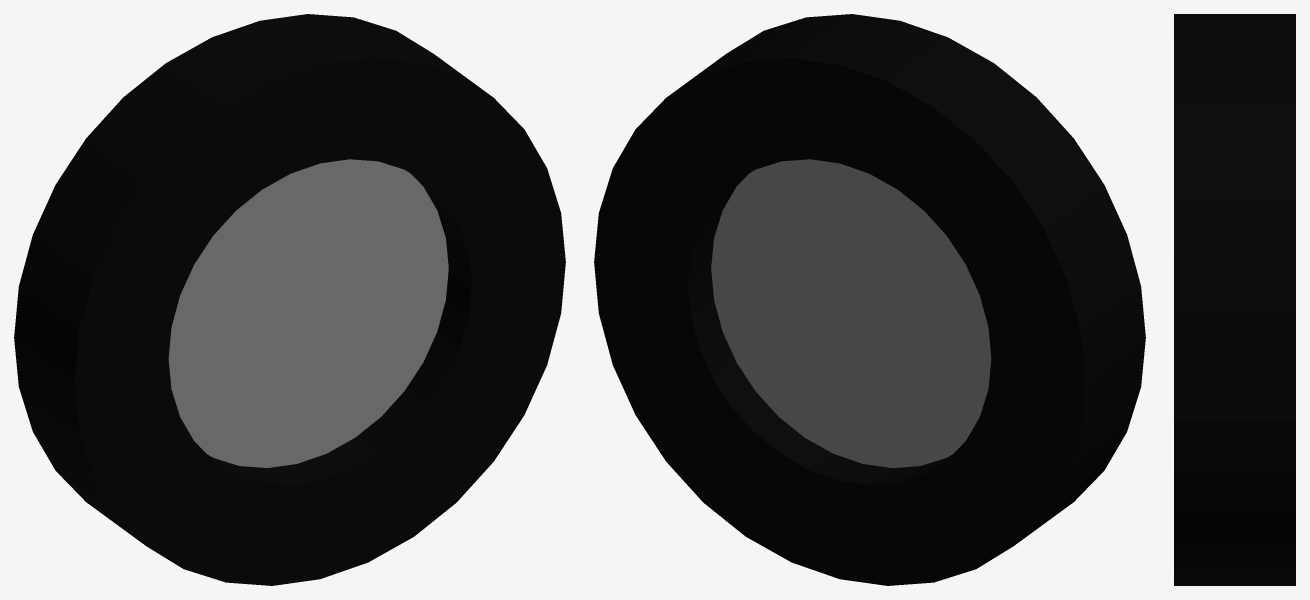
The model's file is wheel.fbx.
The picture shows the model from 3 angles, left to right: view 1: azimuth 30°, elevation 25°; view 2: azimuth 150°, elevation 25°; view 3: azimuth 270°, elevation 25°; orthographic projection.
Parts seen in each view (by area): view 1: Cylinder; view 2: Cylinder; view 3: Cylinder.
Boxes of the visible parts, x1,y1,x2,y2 form: Cylinder: [14, 14, 565, 585]; Cylinder: [594, 14, 1145, 585]; Cylinder: [1174, 14, 1295, 585].
Size of the model in its own units: 2 by 2 by 0.4257.
